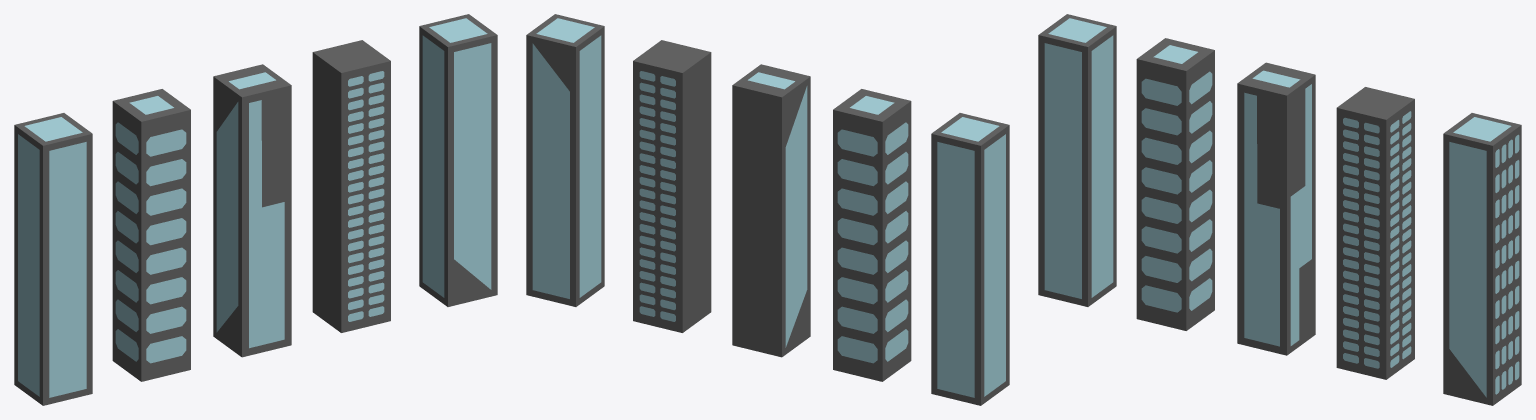
Rendered from LargeVerticalBlocks.fbx.
The picture shows the model from 3 angles, left to right: view 1: azimuth 30°, elevation 25°; view 2: azimuth 150°, elevation 25°; view 3: azimuth 330°, elevation 25°; orthographic projection.
Parts seen in each view (by area): view 1: Cube, Cube.002, Cube.004, Cube.001, Cube.003; view 2: Cube, Cube.002, Cube.004, Cube.001, Cube.003; view 3: Cube, Cube.002, Cube.004, Cube.001, Cube.003.
Boxes of the visible parts, box(x1,y1,x2,y2) form: Cube: box(14, 113, 92, 405); Cube.002: box(213, 64, 291, 357); Cube.004: box(419, 14, 497, 306); Cube.001: box(112, 89, 190, 381); Cube.003: box(312, 40, 390, 332); Cube: box(931, 113, 1009, 405); Cube.002: box(732, 64, 810, 357); Cube.004: box(526, 14, 604, 306); Cube.001: box(833, 89, 911, 381); Cube.003: box(633, 40, 711, 332); Cube: box(1038, 14, 1116, 306); Cube.002: box(1237, 62, 1315, 355); Cube.004: box(1443, 113, 1521, 405); Cube.001: box(1136, 38, 1214, 330); Cube.003: box(1336, 87, 1414, 379).
Size of the model in its own units: 1829 by 1000 by 200.
